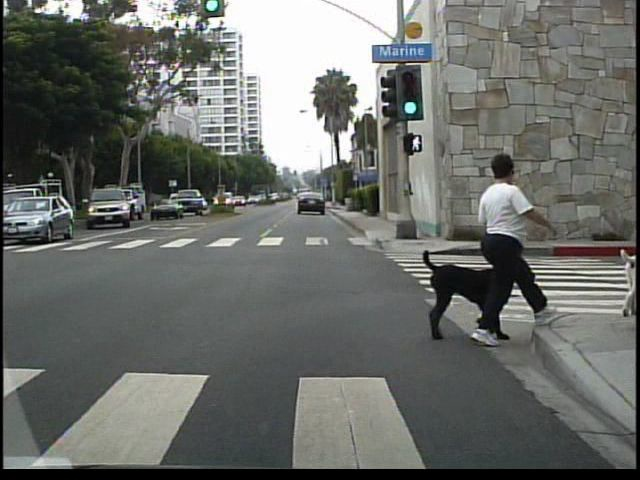person: (466, 146, 539, 344)
